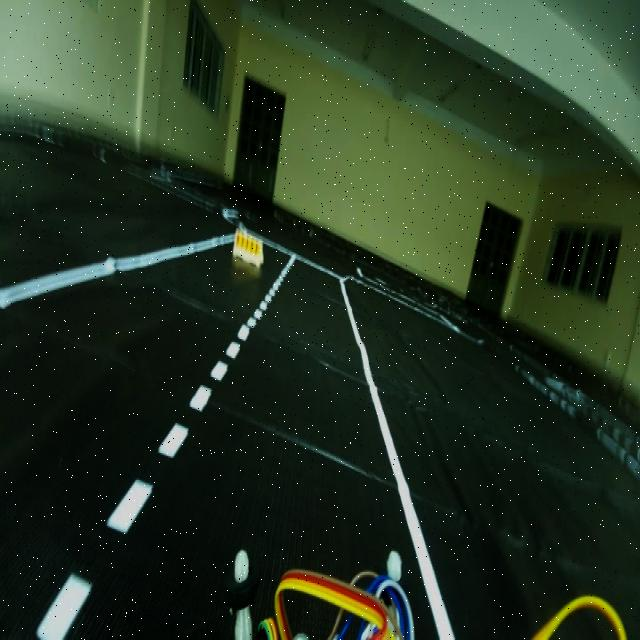roadblock: (231, 217, 264, 276)
